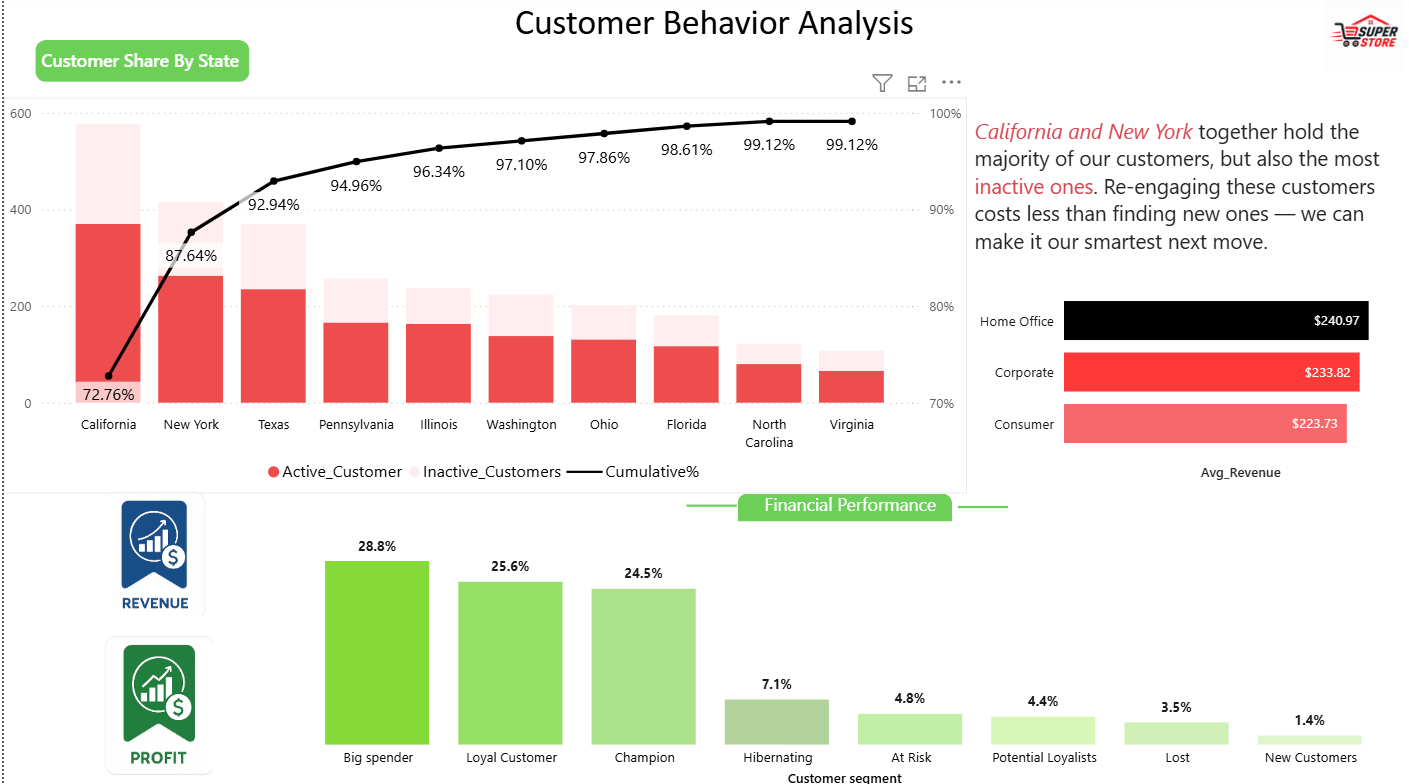

Layout of this report page (visuals, bound fields, positions):
{"tool":"powerbi","page":{"name":"Customer Behavior Analysis","canvas":[1280,720],"ordinal":1},"visuals":[{"type":"shape","box":[28.1,40.4,193.2,37.9],"z":0},{"type":"shape","box":[661.6,450,193.2,31.8],"z":1000},{"type":"textbox","box":[23.2,42.8,198.1,35.5],"z":2000},{"type":"lineStackedColumnComboChart","fields":{"Category":["sample store dataset.State"],"Y":["Measure.Active_Customer","Measure.Inactive_Customers"],"Y2":["Measure.Cumulative%"]},"box":[0,92.9,869.4,357.1],"z":3000},{"type":"textbox","box":[327.6,0,624.9,69.7],"z":4000},{"type":"textbox","box":[870,104.3,410.3,177],"z":5000},{"type":"barChart","fields":{"Category":["sample store dataset.Segment"],"Y":["Measure.Avg_Revenue"]},"box":[869.4,244.6,410.9,198.1],"z":6000},{"type":"columnChart","fields":{"Category":["Sample_ Superstore.Customer segment"],"Y":["Measure.Revenue%"]},"box":[237.2,474.5,1043.1,244.6],"z":7000},{"type":"image","box":[93.3,415.8,100.2,155.1],"z":9000},{"type":"image","box":[90.6,564,98.8,155.1],"z":10000},{"type":"textbox","box":[681.1,442.7,173.6,39.1],"z":11000},{"type":"shape","box":[859.7,439,45.2,46.5],"z":11001},{"type":"shape","box":[615.1,439,45.2,44],"z":11002},{"type":"image","box":[1170.5,0,109.2,69.5],"z":11003}]}

Visuals, with their boxes in screenshot pixels (x1, y1, x2, y2), scaled from the page's 1280x720 canvas onto the 1409x784 screenshot:
shape: (x1=31, y1=44, x2=244, y2=85)
shape: (x1=728, y1=490, x2=941, y2=525)
textbox: (x1=26, y1=47, x2=244, y2=85)
lineStackedColumnComboChart - sample store dataset.State x Measure.Active_Customer: (x1=0, y1=101, x2=957, y2=490)
textbox: (x1=361, y1=0, x2=1048, y2=76)
textbox: (x1=958, y1=114, x2=1408, y2=306)
barChart - sample store dataset.Segment x Measure.Avg_Revenue: (x1=957, y1=266, x2=1408, y2=482)
columnChart - Sample_ Superstore.Customer segment x Measure.Revenue%: (x1=261, y1=517, x2=1408, y2=783)
image: (x1=103, y1=453, x2=213, y2=622)
image: (x1=100, y1=614, x2=208, y2=783)
textbox: (x1=750, y1=482, x2=941, y2=525)
shape: (x1=946, y1=478, x2=996, y2=529)
shape: (x1=677, y1=478, x2=727, y2=526)
image: (x1=1288, y1=0, x2=1408, y2=76)
